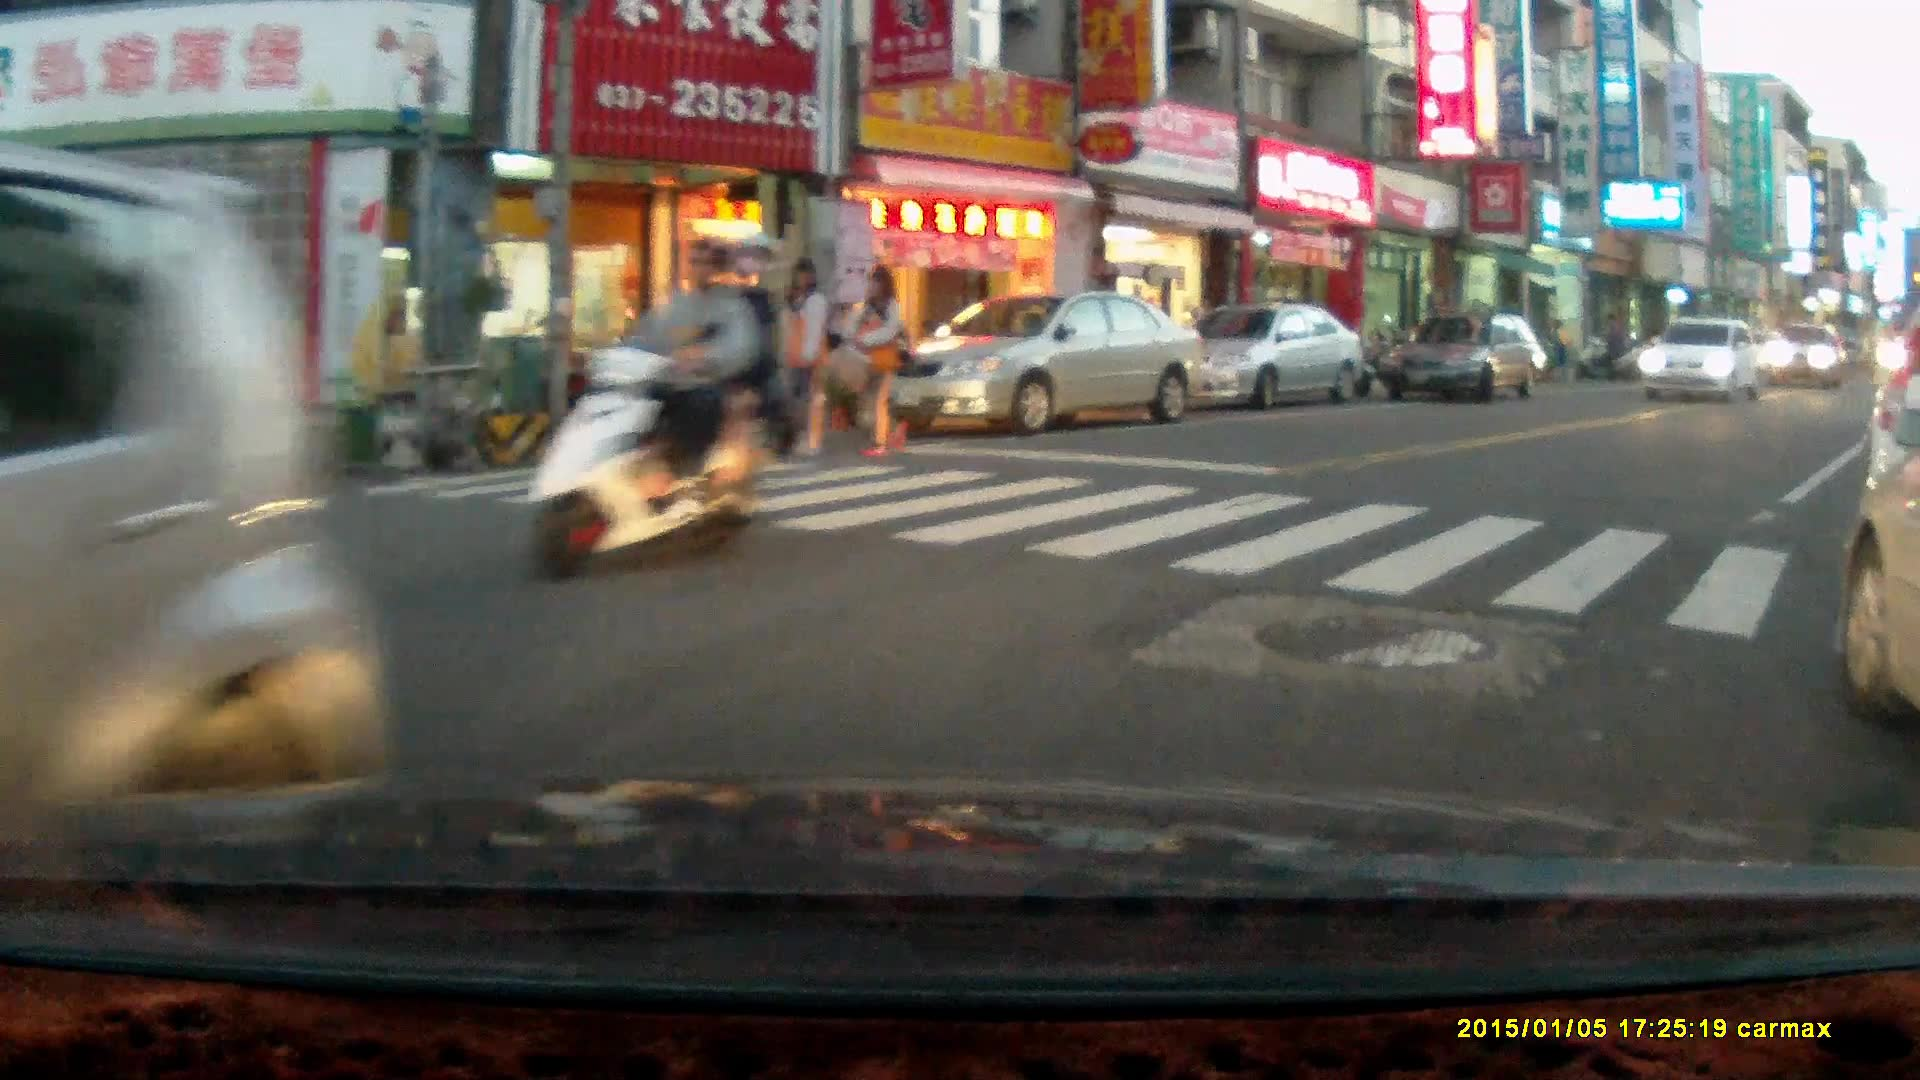pedestrian: (843, 262, 909, 459), (772, 259, 836, 459)
rider: (522, 230, 785, 583)
vehicle: (870, 291, 1208, 435), (1160, 302, 1367, 411), (1382, 311, 1551, 406), (1860, 355, 1920, 578), (1638, 317, 1764, 400), (1759, 319, 1852, 390)
